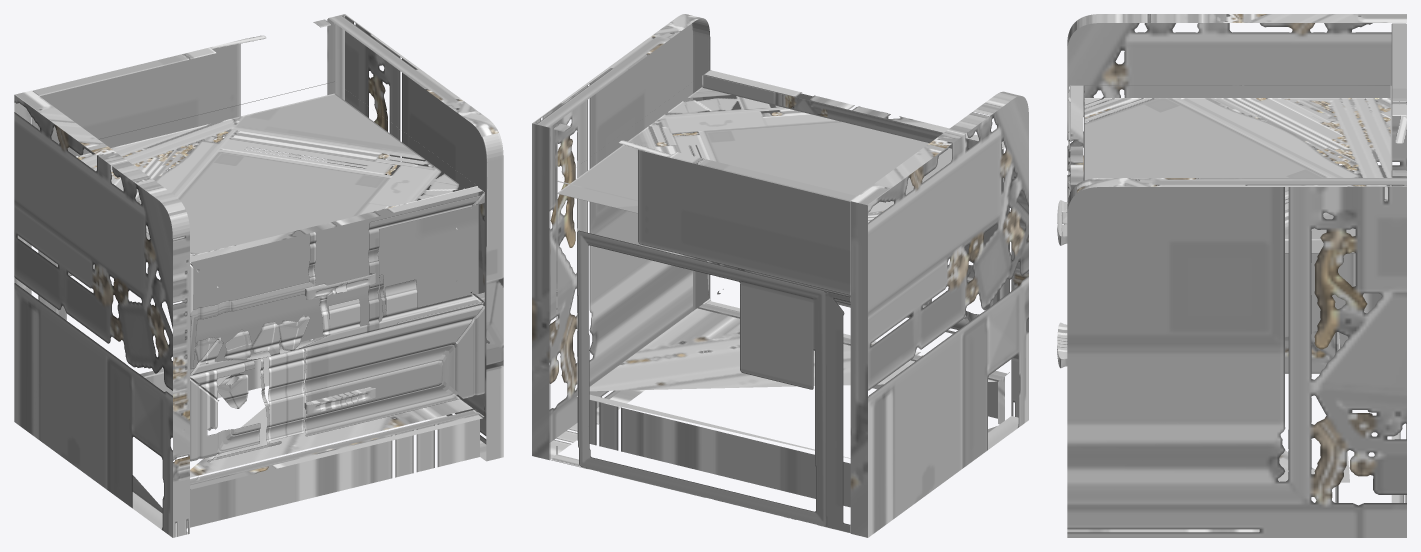
Rendered from raw_model.obj.
The picture shows the model from 3 angles, left to right: view 1: azimuth 30°, elevation 25°; view 2: azimuth 150°, elevation 25°; view 3: azimuth 270°, elevation 25°; orthographic projection. The views are drawn at different scales.
Visible parts, largest first — view 1: solid_003, solid_001, solid_002; view 2: solid_003, solid_001; view 3: solid_003, solid_001, solid_002.
Part boxes in pixels (bbox=[...]): solid_003: bbox=[14, 14, 503, 537]; solid_001: bbox=[182, 186, 484, 489]; solid_002: bbox=[304, 273, 375, 413]; solid_003: bbox=[532, 14, 1028, 537]; solid_001: bbox=[703, 70, 1009, 376]; solid_003: bbox=[1067, 14, 1406, 537]; solid_001: bbox=[1068, 85, 1083, 197]; solid_002: bbox=[1057, 200, 1067, 368].
Size of the model in its own units: 0.48 by 0.454 by 0.41.
